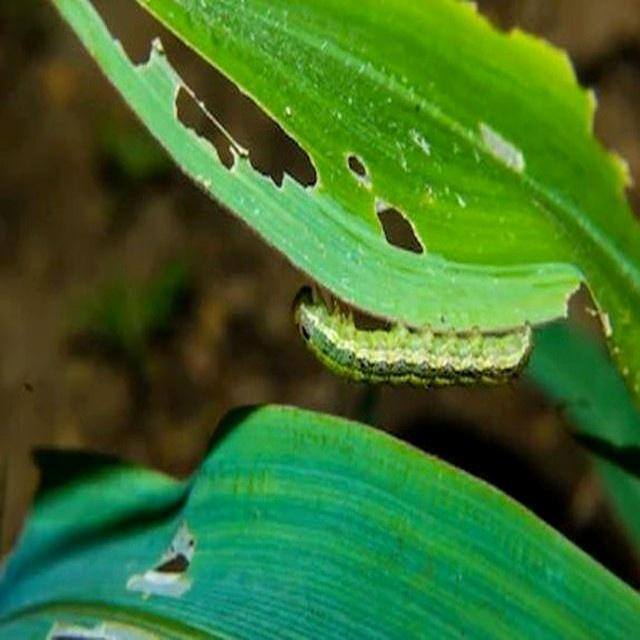Plaga: (288, 280, 540, 393)
